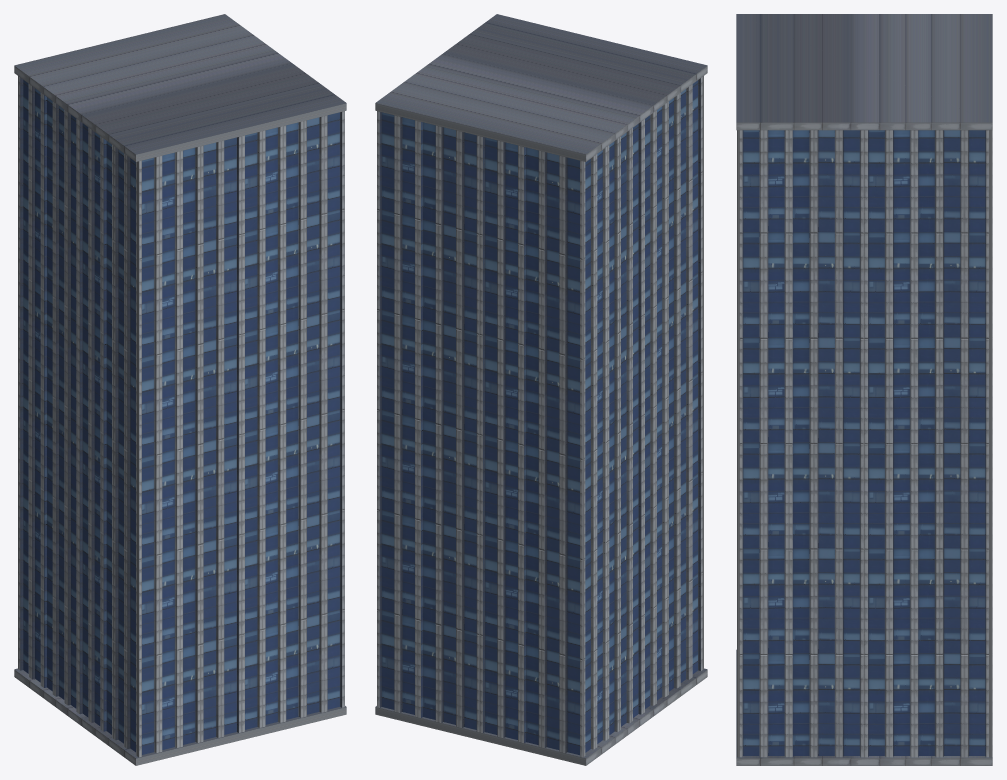
File: predioteste.fbx
3 views of the same model, side by side, from view 1: azimuth 30°, elevation 25°; view 2: azimuth 150°, elevation 25°; view 3: azimuth 270°, elevation 25° (orthographic). The views are drawn at different scales.
Parts seen in each view (by area): view 1: Cube.001; view 2: Cube.001; view 3: Cube.001.
Part boxes in pixels (bbox=[...]): Cube.001: bbox=[14, 14, 346, 765]; Cube.001: bbox=[375, 14, 707, 765]; Cube.001: bbox=[736, 14, 992, 765].
Bounding box in the file's own units: 221 × 611 × 221.
